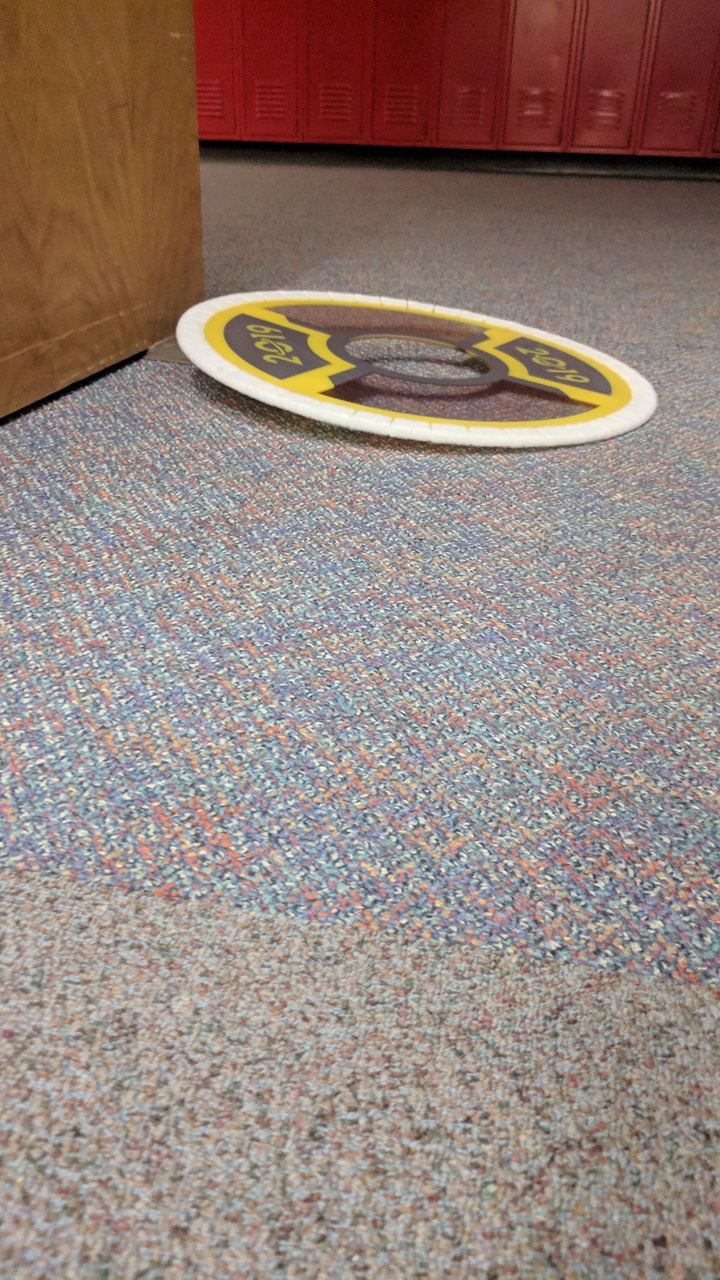hatch_panel: (173, 283, 673, 458)
